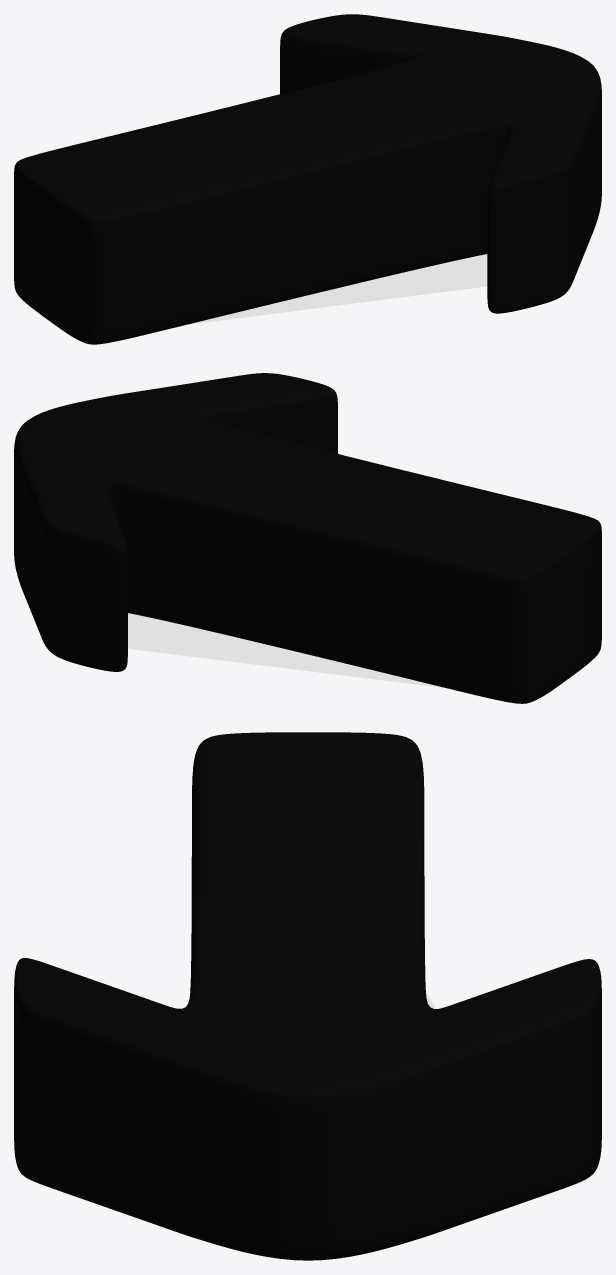
File: VR福笑いボタン - すすむ（黒地）.fbx
The picture shows the model from 3 angles, top to bottom: view 1: azimuth 30°, elevation 25°; view 2: azimuth 150°, elevation 25°; view 3: azimuth 270°, elevation 25°; orthographic projection. The views are drawn at different scales.
Parts seen in each view (by area): view 1: 平面.002, 縺吶☆繧_white; view 2: 平面.002, 縺吶☆繧_white; view 3: 平面.002.
Part boxes in pixels (x1,y1,x2,y2): 平面.002: (14, 14, 601, 344); 縺吶☆繧_white: (186, 254, 487, 324); 平面.002: (14, 373, 601, 703); 縺吶☆繧_white: (128, 613, 445, 688); 平面.002: (14, 732, 601, 1260).
Size of the model in its own units: 3022 by 711 by 2086.
2 materials, 1 textured.
